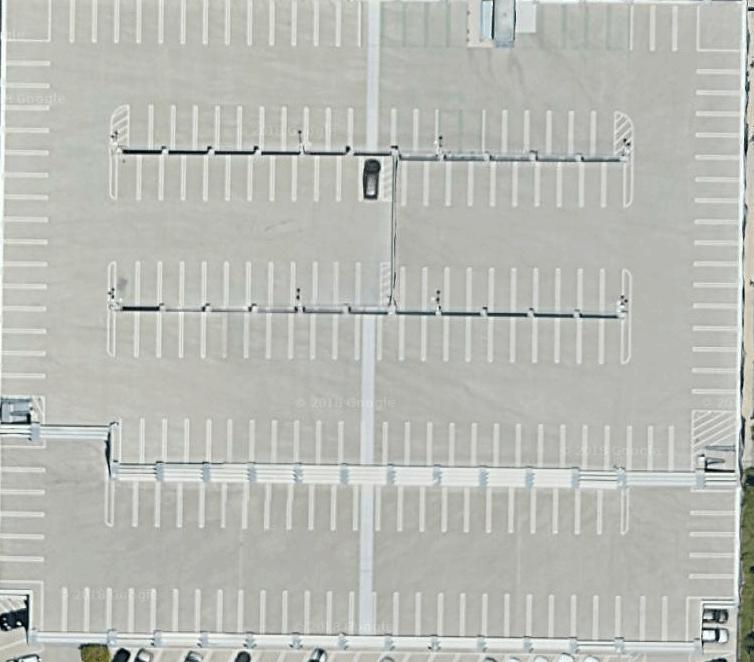parkingspot: (41, 584, 690, 644), (118, 415, 695, 475), (110, 478, 624, 537), (113, 258, 626, 317), (113, 310, 625, 367), (126, 101, 619, 158), (46, 0, 471, 52), (688, 48, 743, 414), (0, 37, 55, 400), (112, 152, 385, 206), (401, 155, 627, 211), (536, 0, 703, 54), (108, 646, 634, 662), (0, 445, 49, 585), (685, 488, 738, 600), (0, 605, 46, 662), (700, 602, 737, 654)
